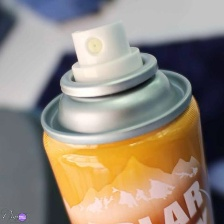aerosol_cans: (32, 15, 221, 224)
